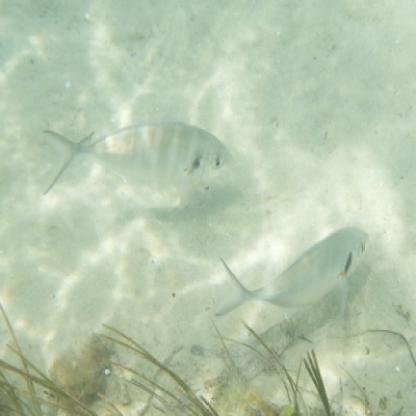Bio: (212, 219, 387, 319), (36, 122, 231, 202)
